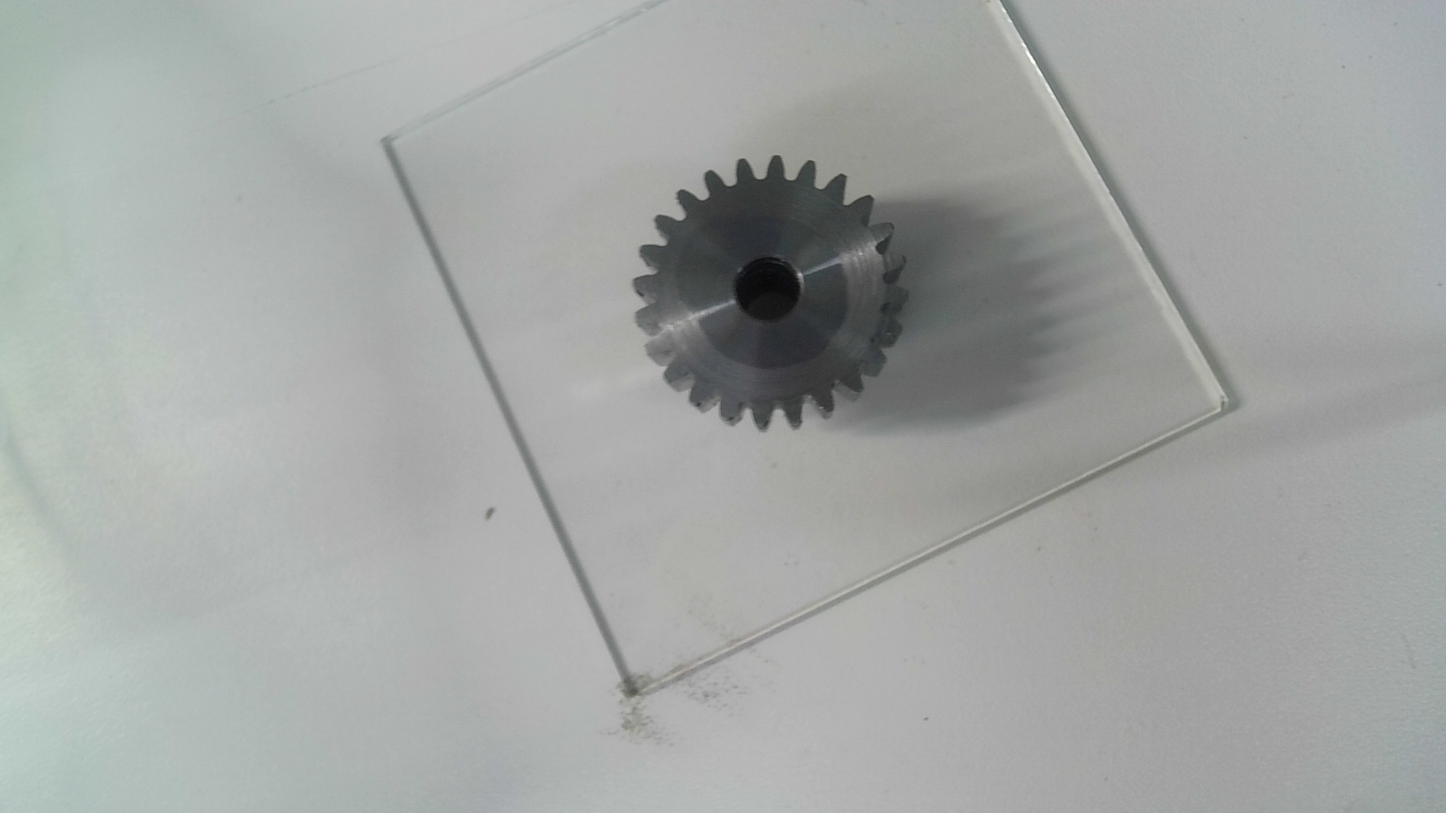gear: (629, 155, 916, 431)
